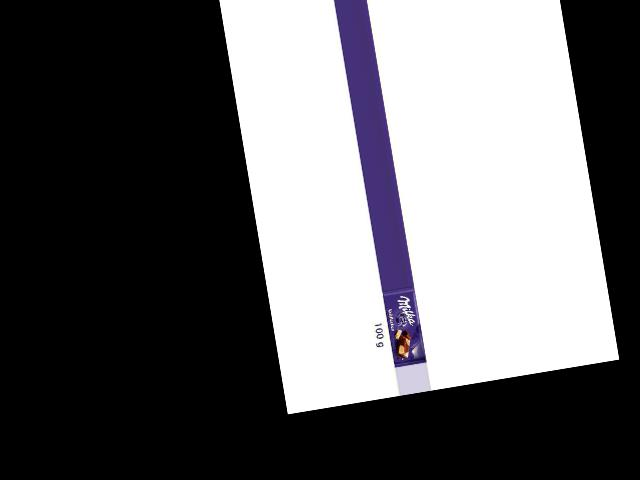chocolate: (377, 286, 427, 369)
